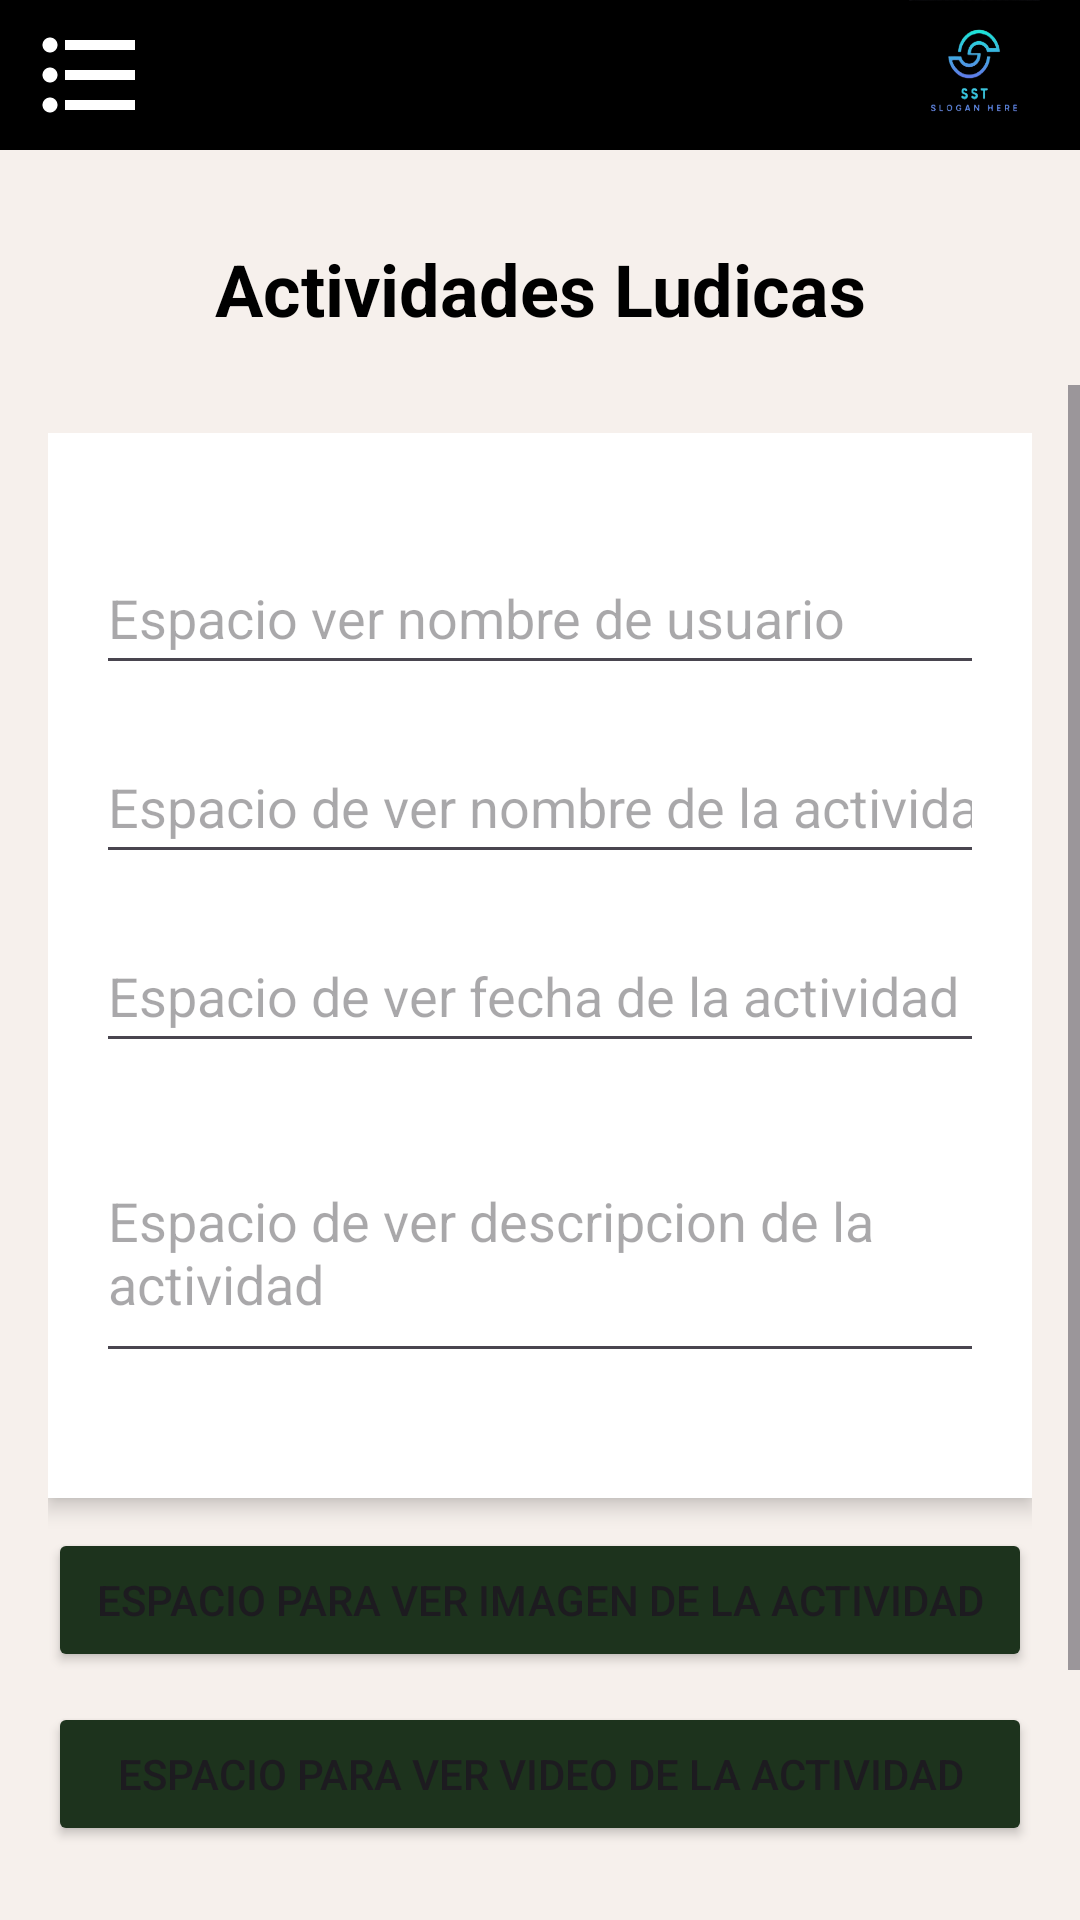

Point at icon controls on the screen. Image size 1080px×1920px, points as (x=x, y=y).
list: (x=88, y=75)
